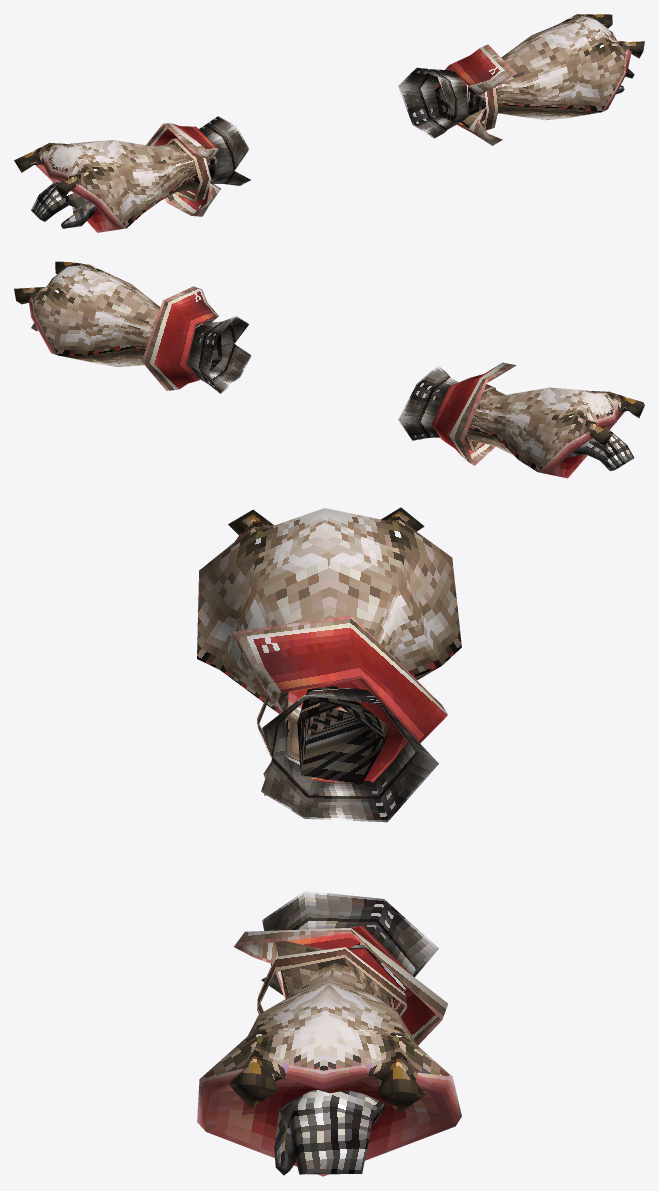
File: m_gauntlet313.obj
The picture shows the model from 3 angles, top to bottom: view 1: azimuth 30°, elevation 25°; view 2: azimuth 150°, elevation 25°; view 3: azimuth 270°, elevation 25°; orthographic projection. The views are drawn at different scales.
Visible parts, largest first — view 1: mesh01, mesh00; view 2: mesh01, mesh00; view 3: mesh00, mesh01.
Boxes of the visible parts, bbox=[...] form: mesh01: bbox=[14, 14, 644, 228]; mesh00: bbox=[14, 24, 642, 232]; mesh01: bbox=[14, 261, 644, 471]; mesh00: bbox=[16, 272, 644, 478]; mesh00: bbox=[197, 525, 461, 1176]; mesh01: bbox=[197, 507, 461, 1094].
Size of the model in its own units: 180 by 26.26 by 34.53.
Materials: 2 (2 with a texture image).
